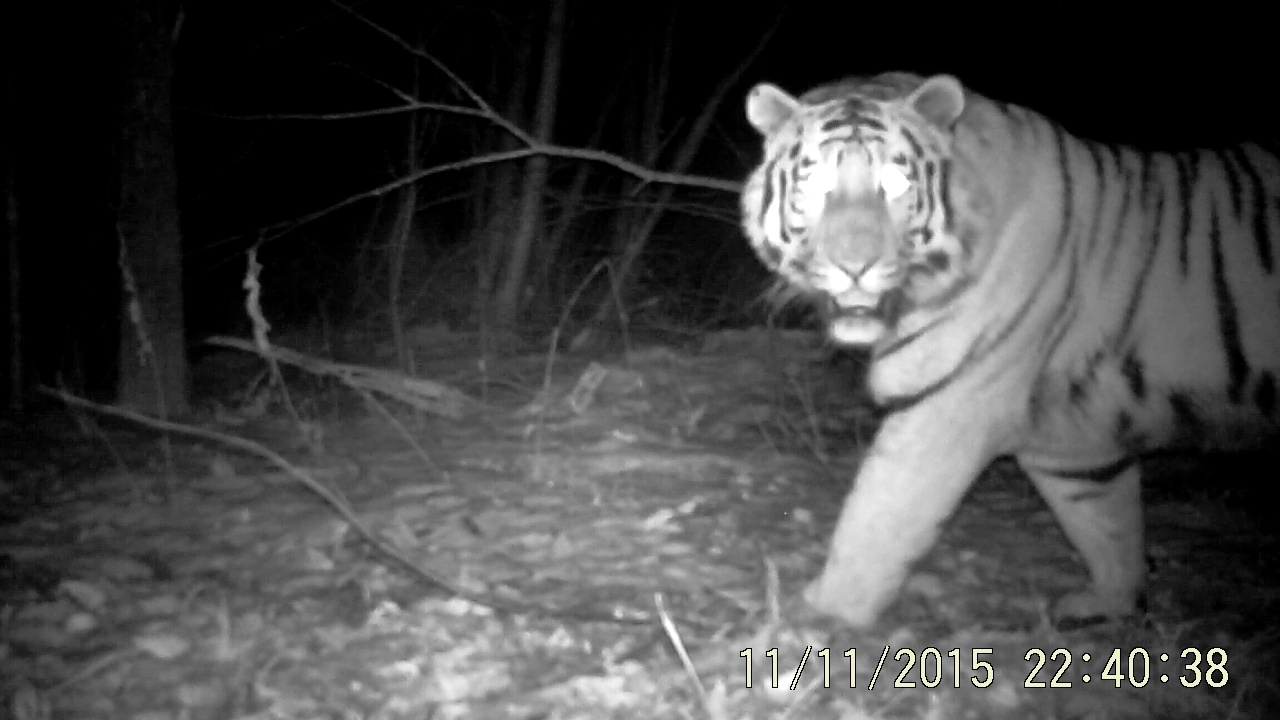Tiger: (707, 35, 1280, 640)
